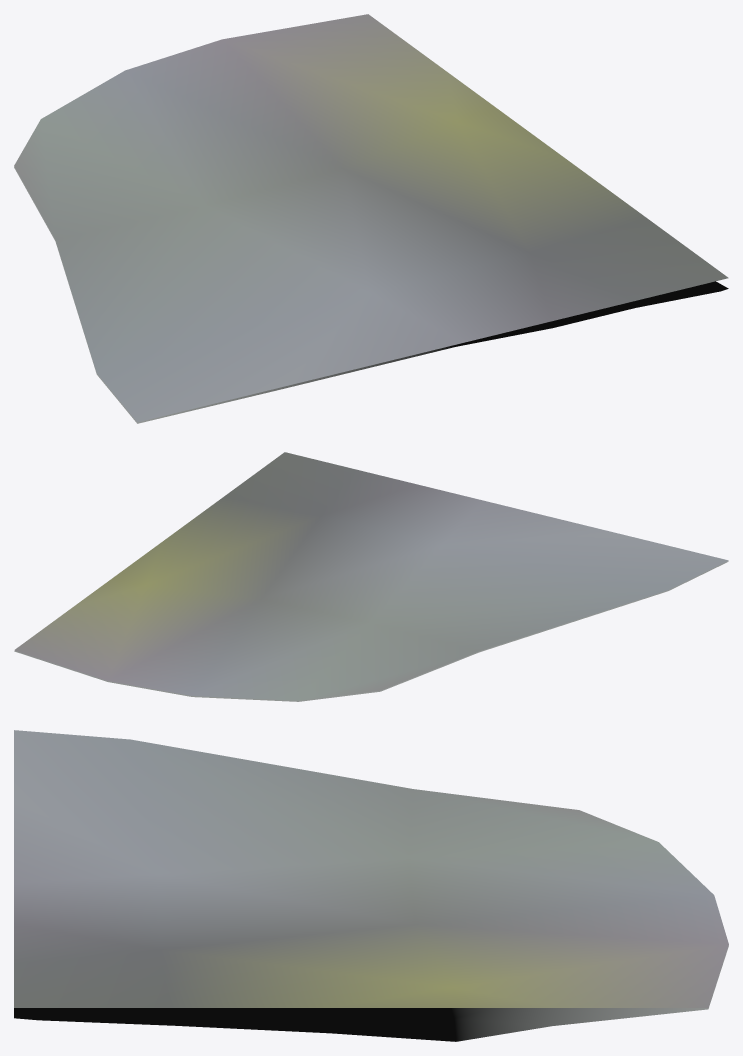
The picture shows the model from 3 angles, top to bottom: view 1: azimuth 30°, elevation 25°; view 2: azimuth 150°, elevation 25°; view 3: azimuth 270°, elevation 25°; orthographic projection. The views are drawn at different scales.
Visible parts, largest first — view 1: G:\FFXIV-MapTools\exports\r2f1\bg\ex1\01_roc_r2\fld\r2f1\bgp (×2); view 2: G:\FFXIV-MapTools\exports\r2f1\bg\ex1\01_roc_r2\fld\r2f1\bgp (×2); view 3: G:\FFXIV-MapTools\exports\r2f1\bg\ex1\01_roc_r2\fld\r2f1\bgp (×2).
Part boxes in pixels (bbox=[...]): G:\FFXIV-MapTools\exports\r2f1\bg\ex1\01_roc_r2\fld\r2f1\bgp (×2): bbox=[14, 14, 728, 423]; G:\FFXIV-MapTools\exports\r2f1\bg\ex1\01_roc_r2\fld\r2f1\bgp (×2): bbox=[14, 452, 728, 701]; G:\FFXIV-MapTools\exports\r2f1\bg\ex1\01_roc_r2\fld\r2f1\bgp (×2): bbox=[14, 730, 728, 1041].
Bounding box in the file's own units: 109 × 6.19 × 118.
